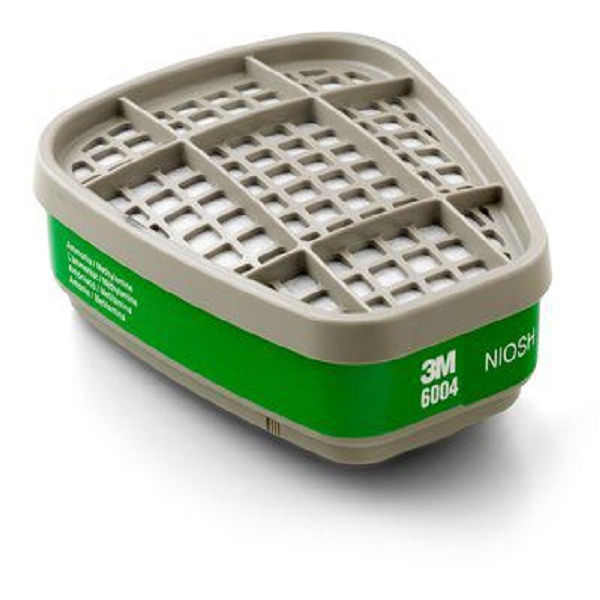3M: (415, 348, 462, 384)
